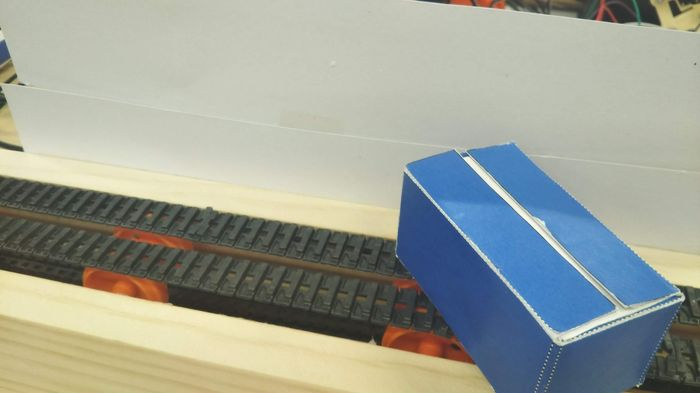box3: (394, 142, 685, 393)
